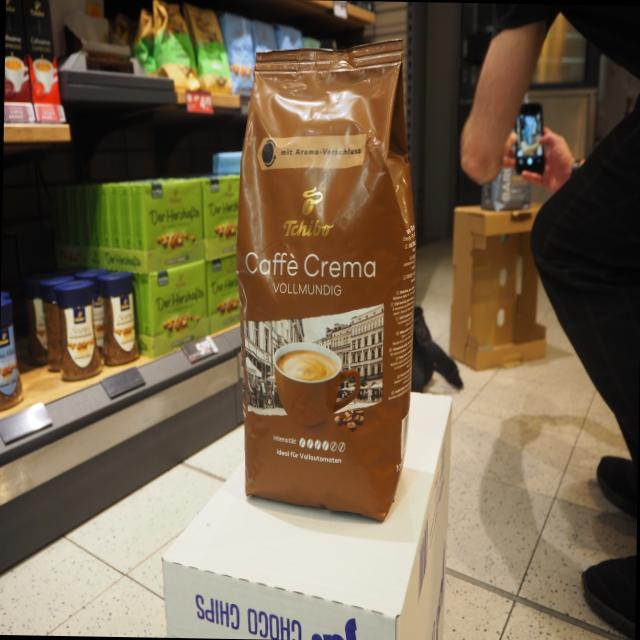CC Vollmundig 36 Pads: (229, 31, 423, 527)
